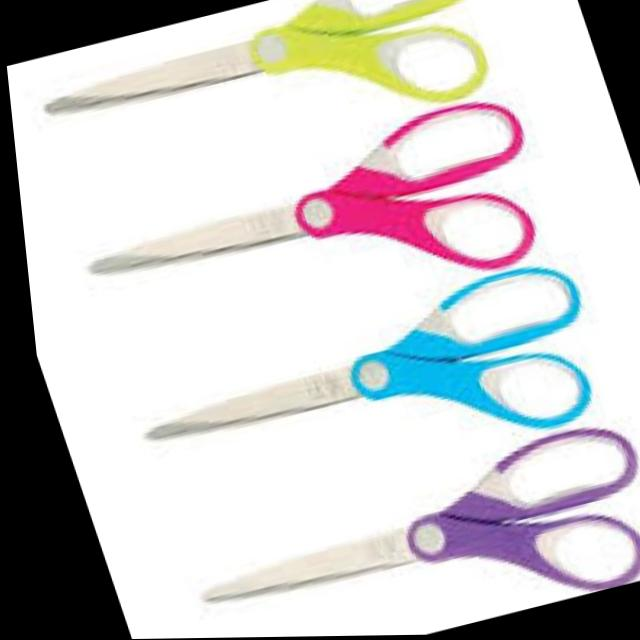scissor: (54, 91, 567, 364), (103, 258, 617, 523), (159, 416, 640, 639), (21, 0, 522, 197)
